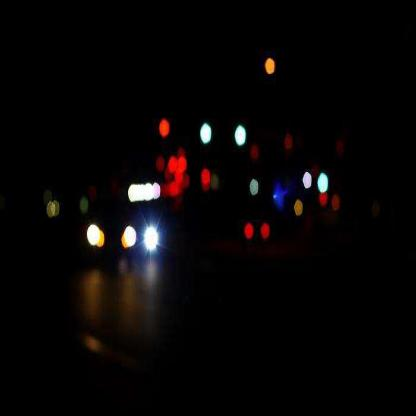other: (124, 178, 164, 206), (139, 215, 164, 259), (81, 218, 109, 256), (121, 227, 136, 252)
